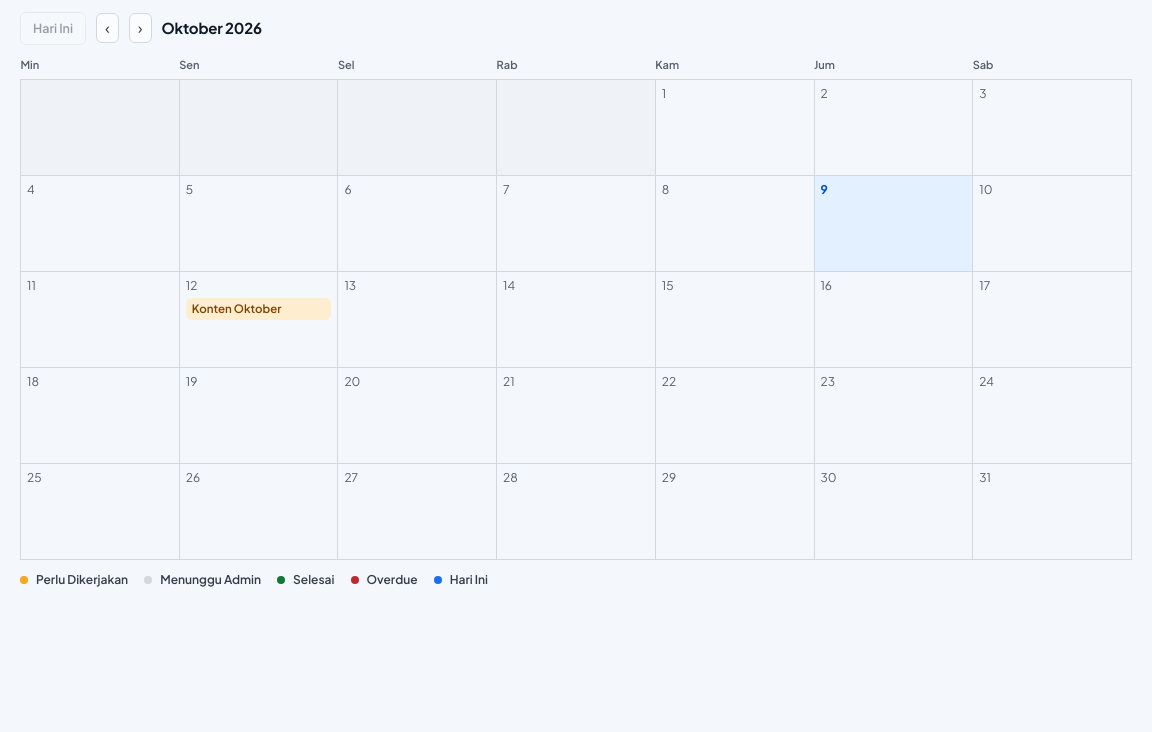
Test case: TaskCalendar › month navigation › moves to the next month, showing only that month's tasks
Click the button named "Bulan Berikutnya" at (140, 28), box left=129, top=13, right=152, bottom=43
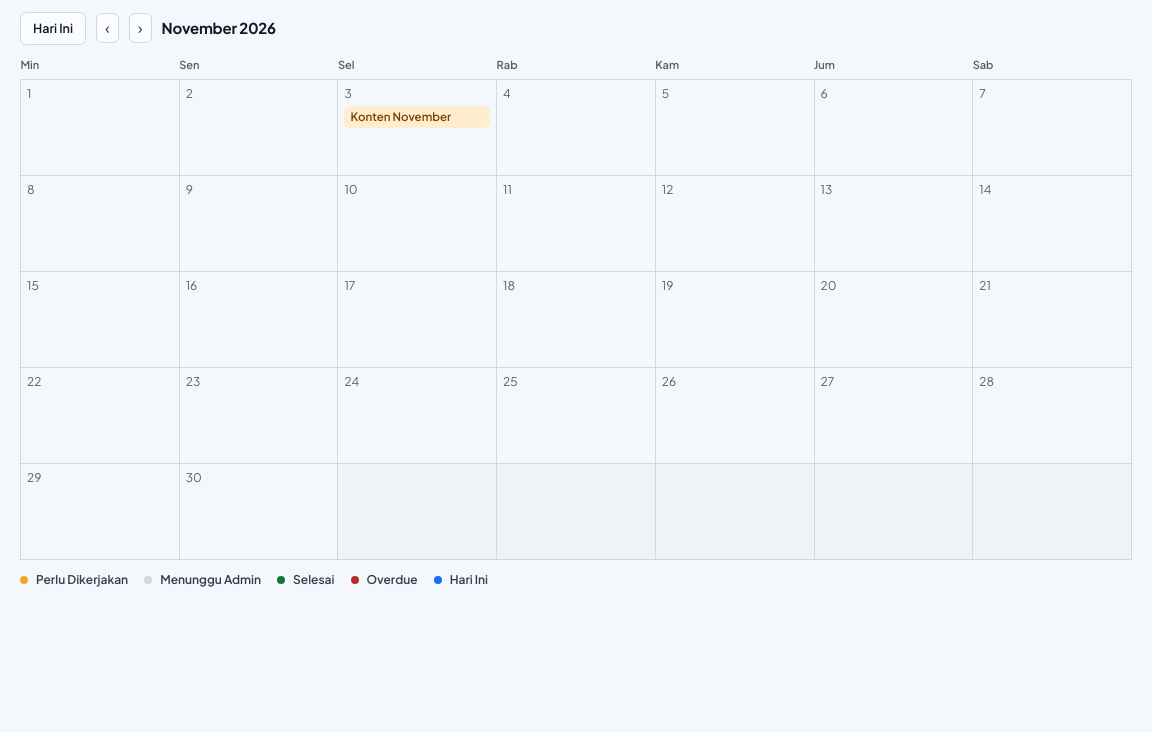
Now the heading "November 2026" is shown, box left=162, top=19, right=276, bottom=37
Now the button "Konten November" is shown, box left=344, top=106, right=490, bottom=128
Now the button "Konten Oktober" is gone
